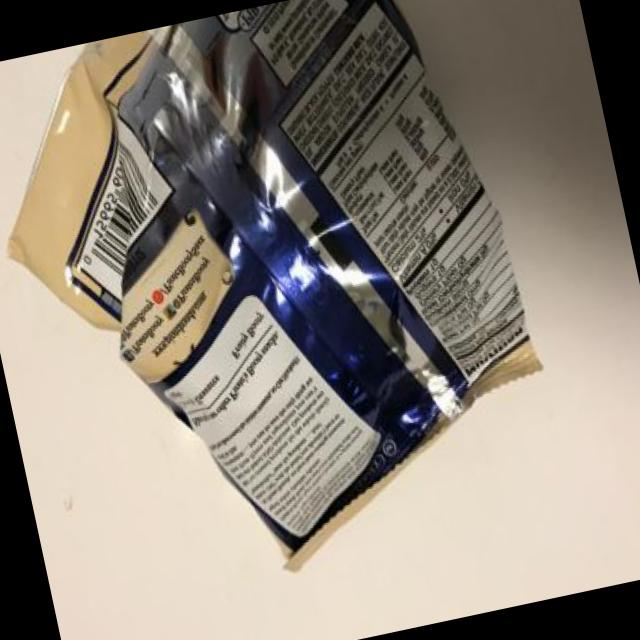bao_bi_thuc_pham: (2, 0, 544, 572)
